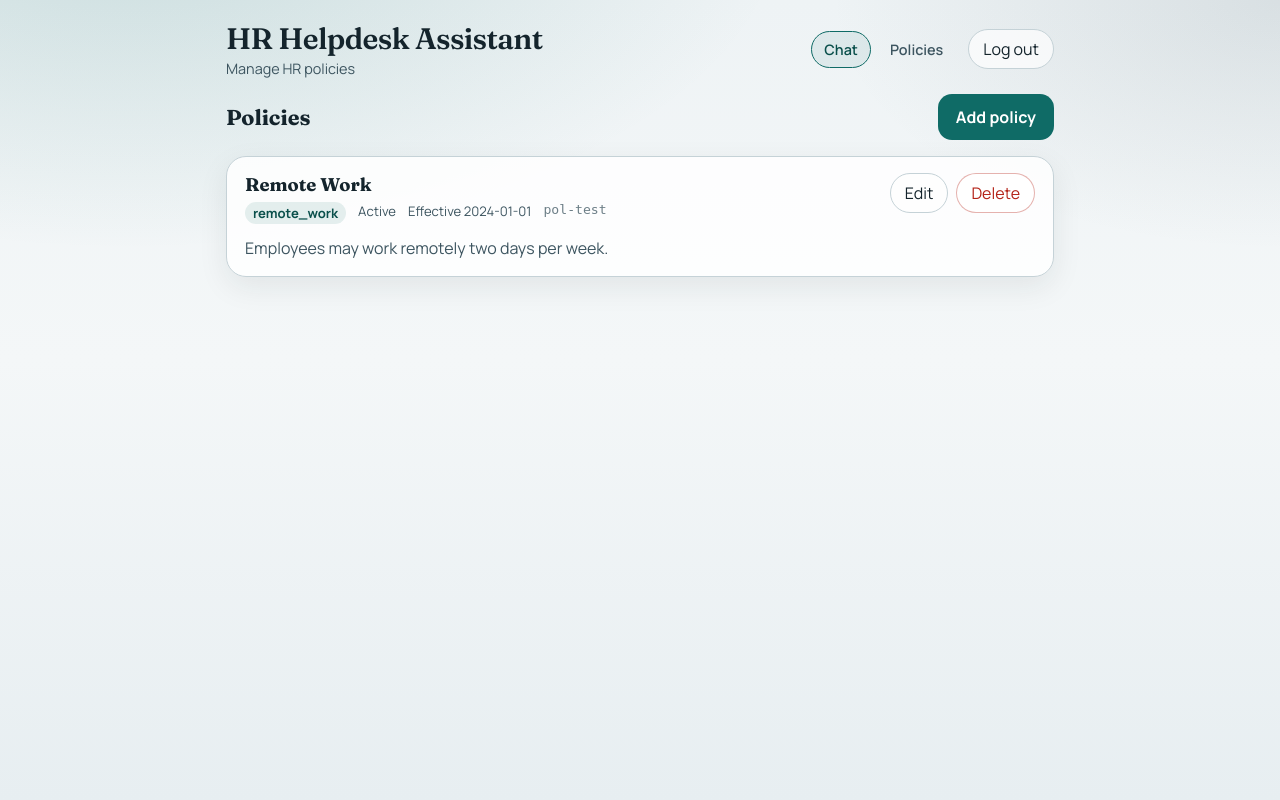
it: Policies page › lists policies and opens the create form
Expected: the heading "Remote Work" is shown, [245,173,371,196]
Expected: the text "remote_work" is shown, [245,202,346,224]
Click the button "Add policy": click(996, 117) [938,94,1054,140]
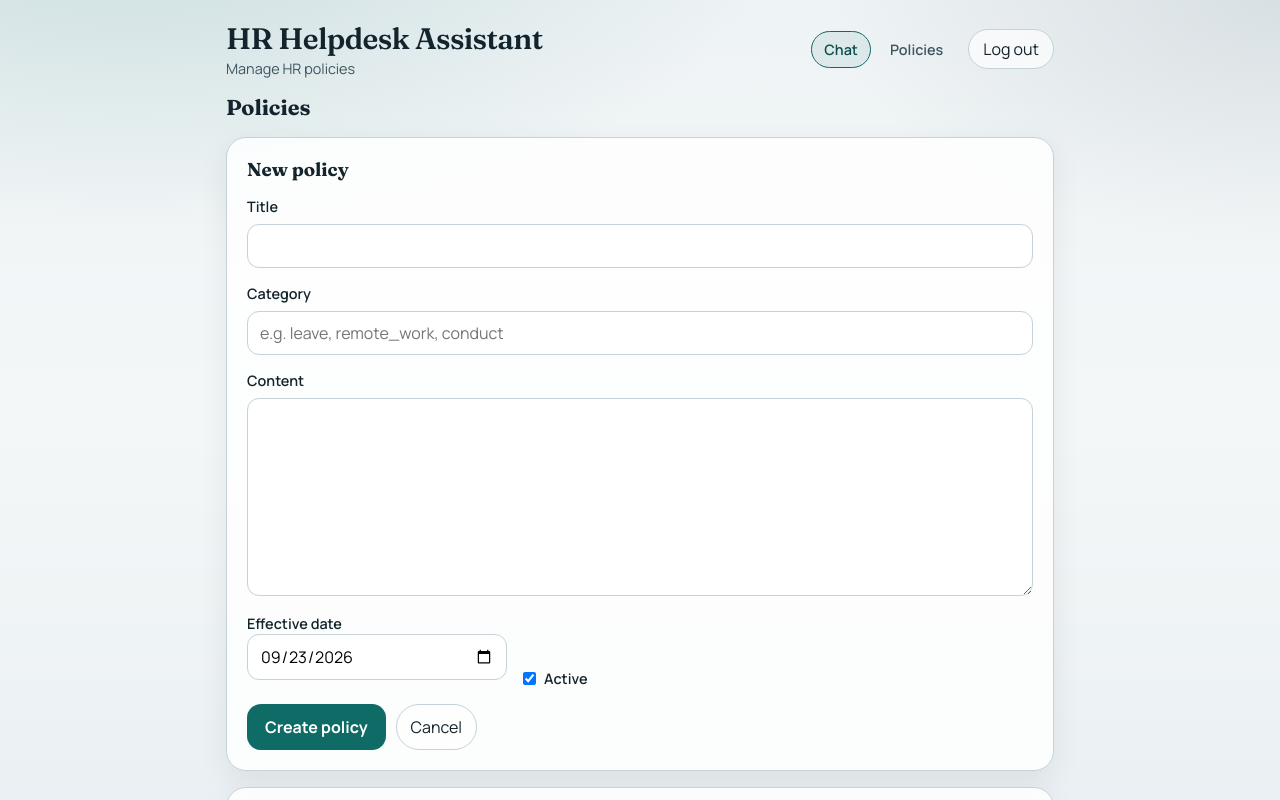
Expected: the heading "New policy" is shown, [247,158,349,181]
Expected: the field labelled "Title" is shown, [247,224,1033,268]
